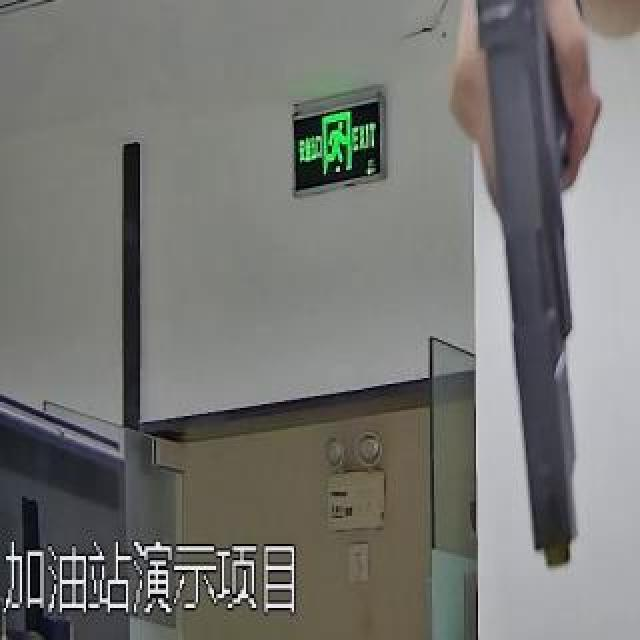Guns: (436, 0, 624, 582)
